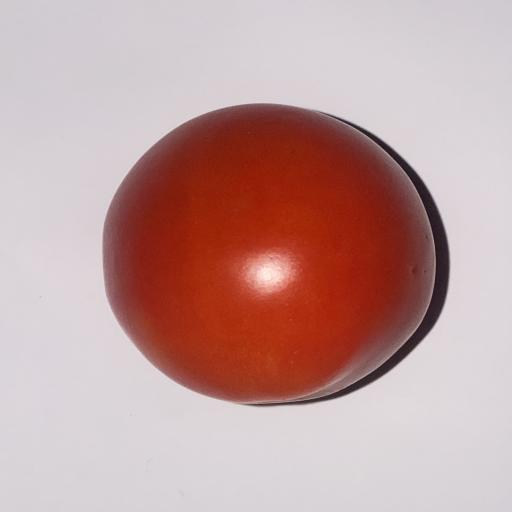ripe: (103, 104, 435, 403)
